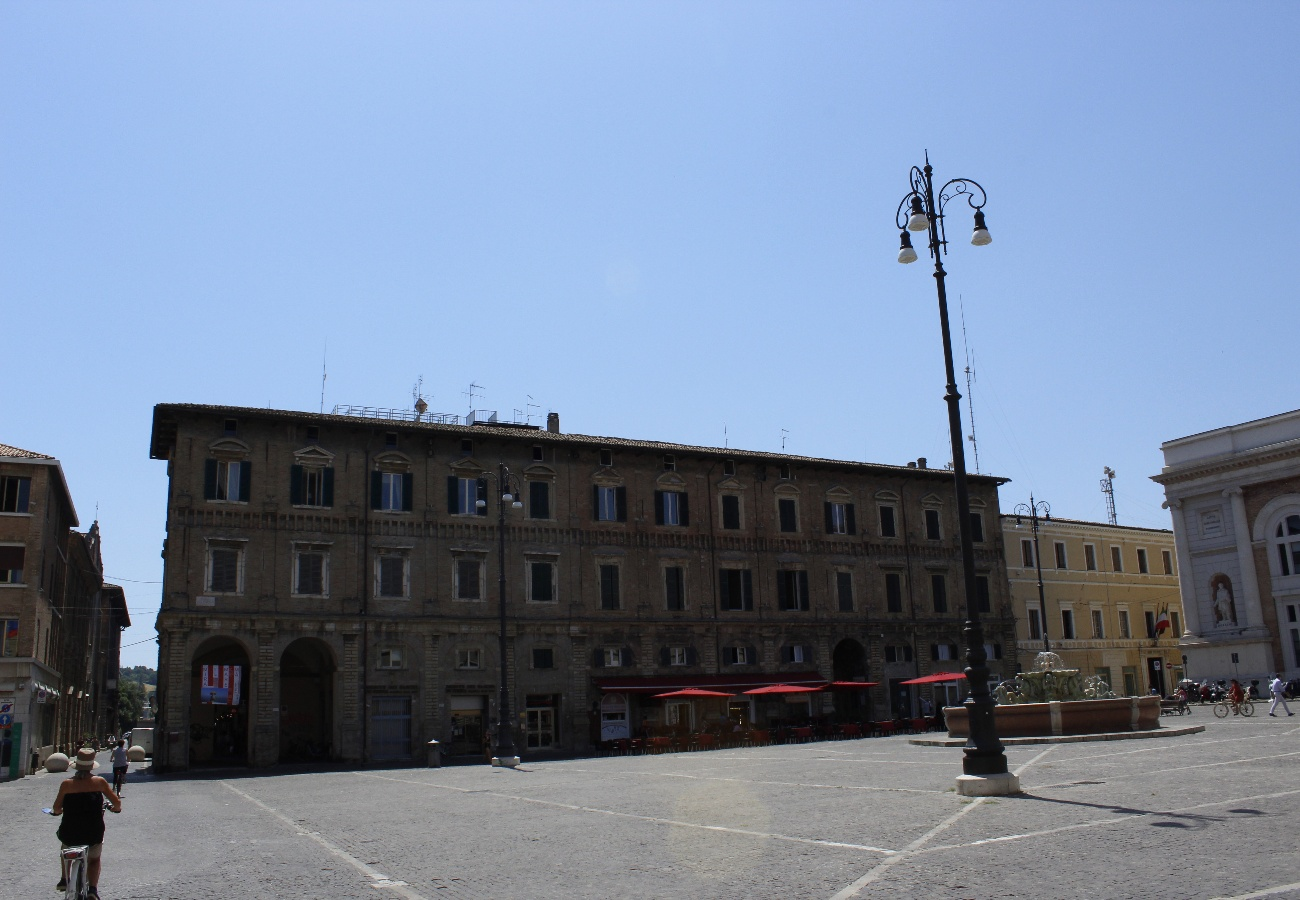Palazzo Baviera: (151, 399, 1017, 737)
